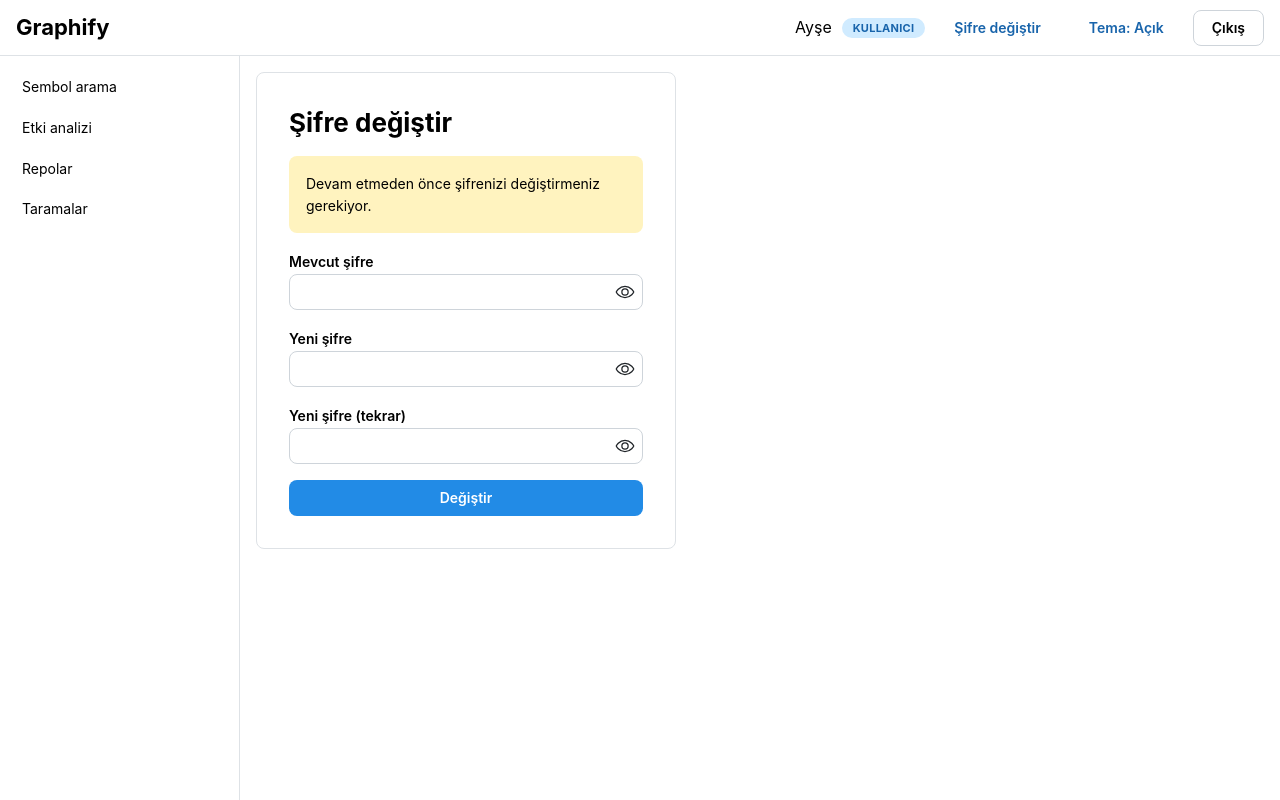
Test: sign-in › makes a user who must change the password do so first
Expected: the text "Devam etmeden önce şifrenizi değiştirmeniz gerekiyor." is shown, [306,173,626,216]
Type "old-pw" into the password field labelled "Mevcut şifre" at (466, 292), box [290,275,642,309]
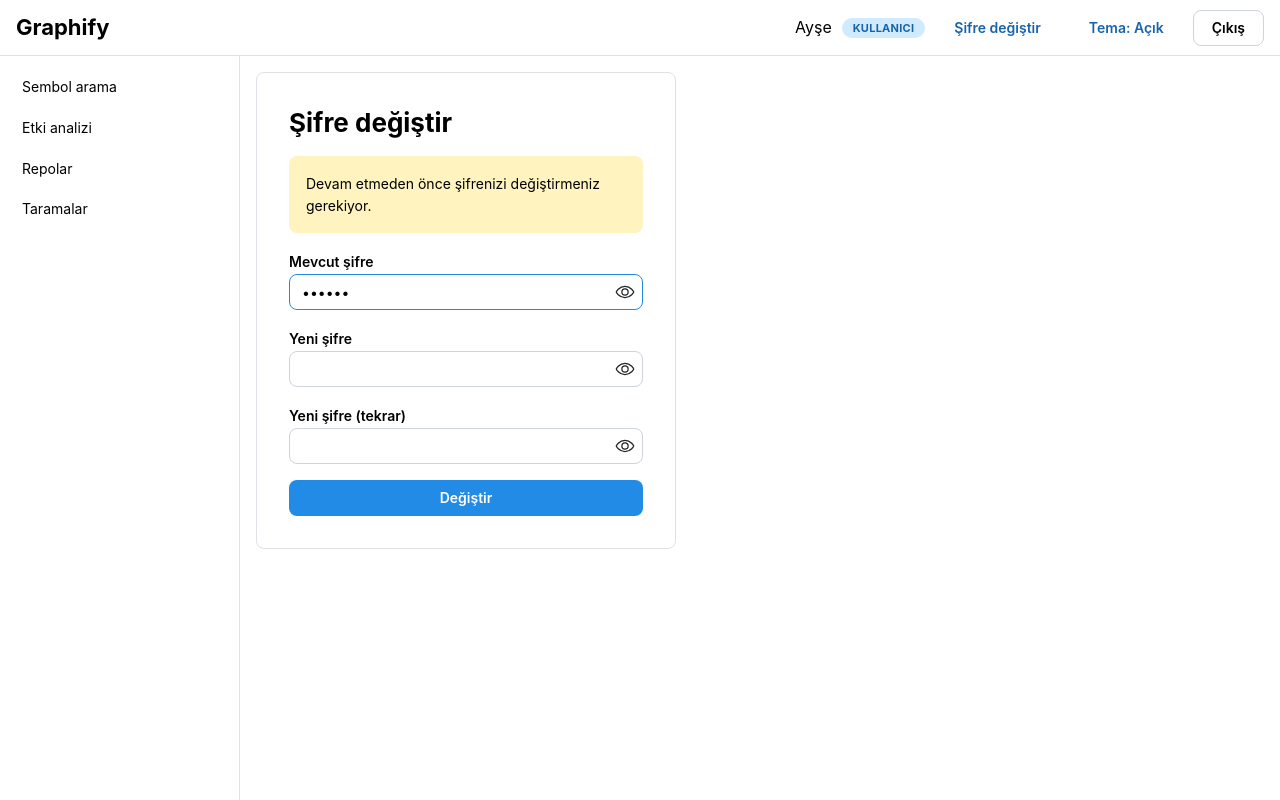
Type "New-Password-1" into the password field labelled "Yeni şifre" at (466, 369), box [290,352,642,386]
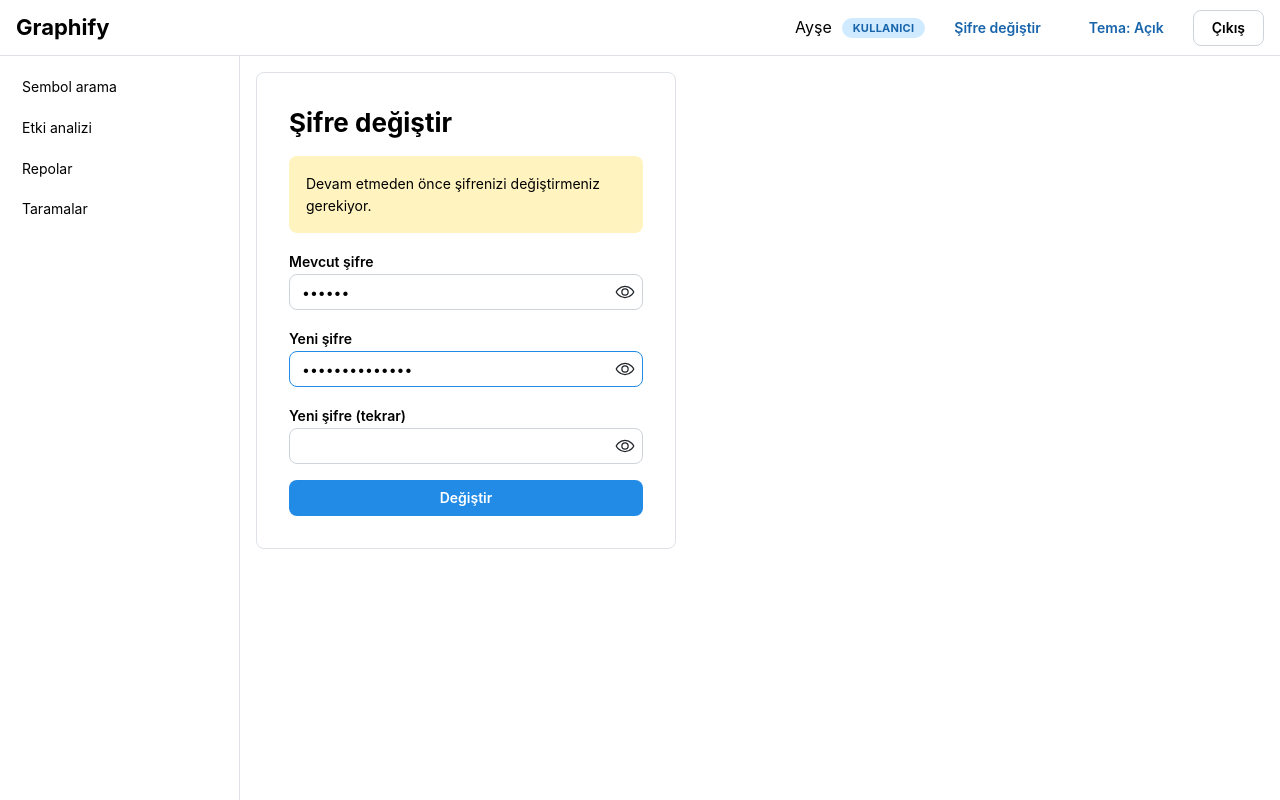
Type "New-Password-1" into the password field labelled "Yeni şifre (tekrar)" at (466, 446), box [290,429,642,463]
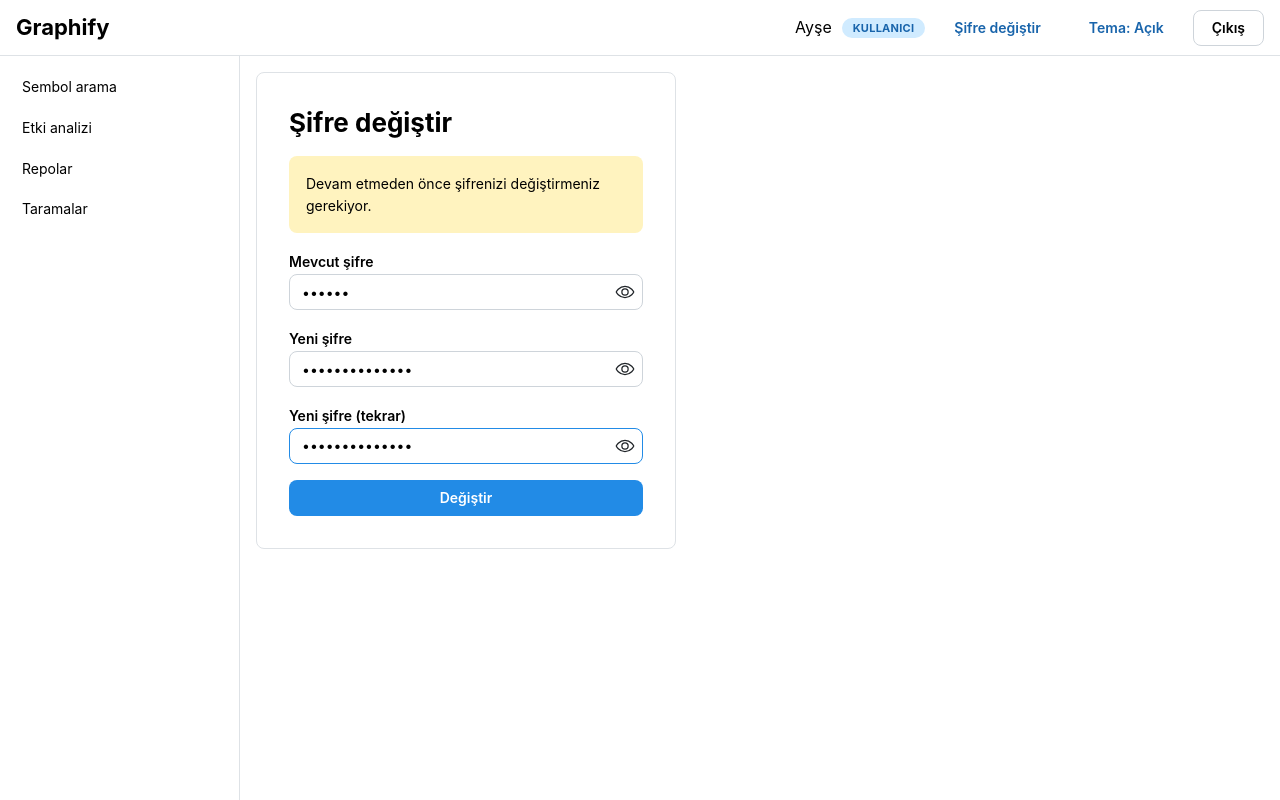
Click the button "Değiştir" at (466, 498), box [289,480,643,516]
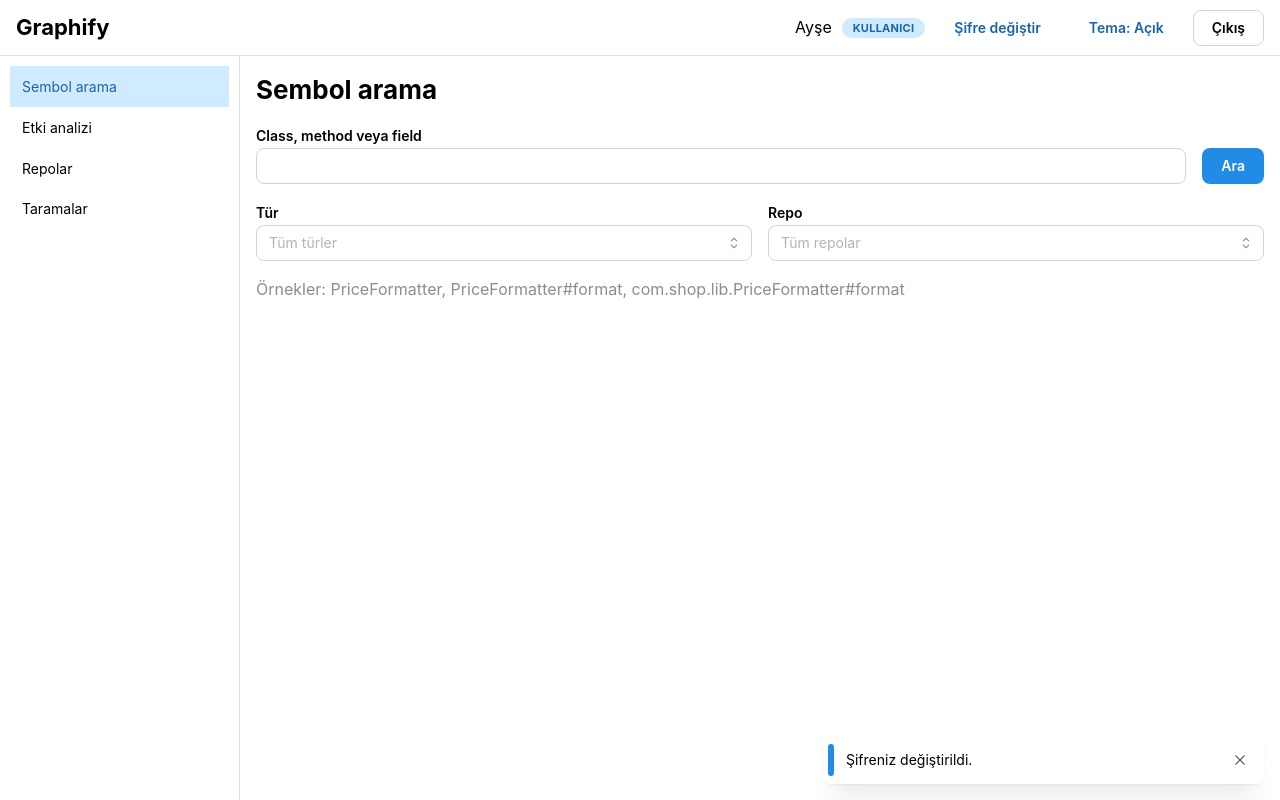
Now the heading "Sembol arama" is shown, box [256,74,437,105]
